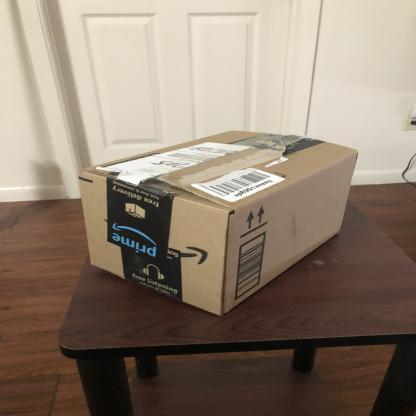package: (74, 128, 364, 320)
